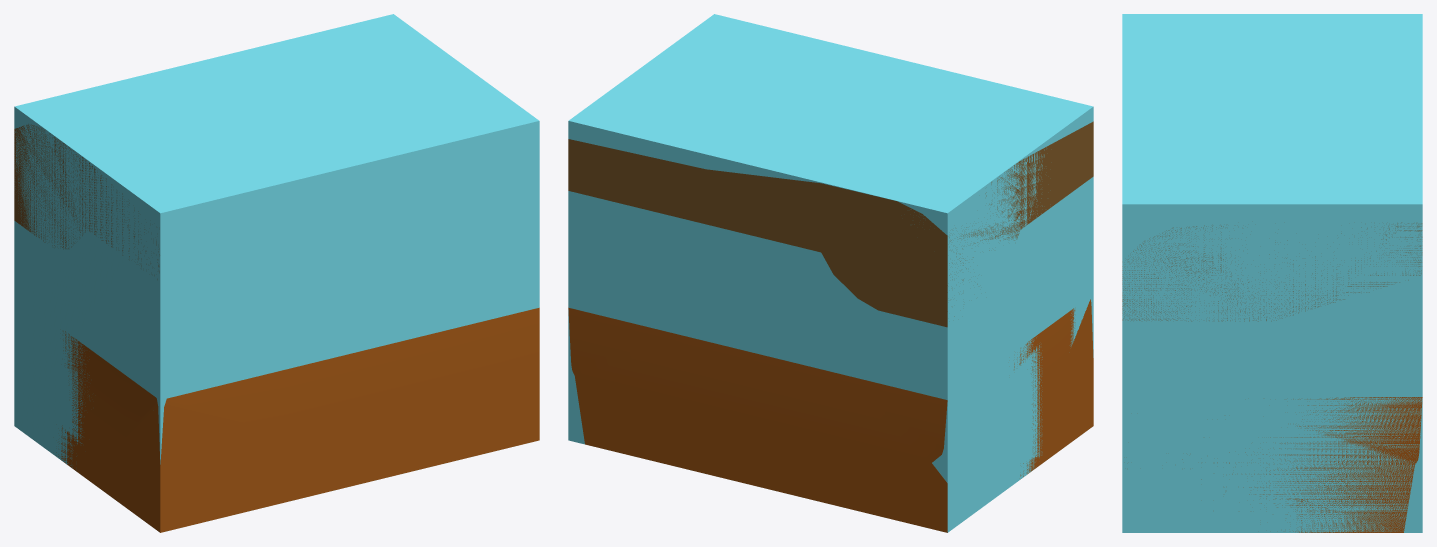
File: PBOX23_Mud_02.FBX
The picture shows the model from 3 angles, left to right: view 1: azimuth 30°, elevation 25°; view 2: azimuth 150°, elevation 25°; view 3: azimuth 270°, elevation 25°; orthographic projection. The views are drawn at different scales.
Visible parts, largest first — view 1: PBOX23_Mud_02, PBOX23_SUB_TAB_MUD_004, PBOX23_SUB_Mud_003; view 2: PBOX23_Mud_02, PBOX23_SUB_TAB_MUD_004, PBOX23_SUB_Mud_003; view 3: PBOX23_Mud_02, PBOX23_SUB_TAB_MUD_004, PBOX23_SUB_Mud_003.
Part boxes in pixels (x1,y1,x2,y2): PBOX23_Mud_02: (14, 14, 539, 467); PBOX23_SUB_TAB_MUD_004: (56, 307, 539, 532); PBOX23_SUB_Mud_003: (14, 124, 159, 279); PBOX23_Mud_02: (568, 14, 1093, 532); PBOX23_SUB_TAB_MUD_004: (568, 299, 1093, 532); PBOX23_SUB_Mud_003: (568, 121, 1093, 327); PBOX23_Mud_02: (1122, 14, 1422, 532); PBOX23_SUB_TAB_MUD_004: (1182, 397, 1422, 532); PBOX23_SUB_Mud_003: (1122, 222, 1422, 321).
Size of the model in its own units: 18 by 14.5 by 12.
